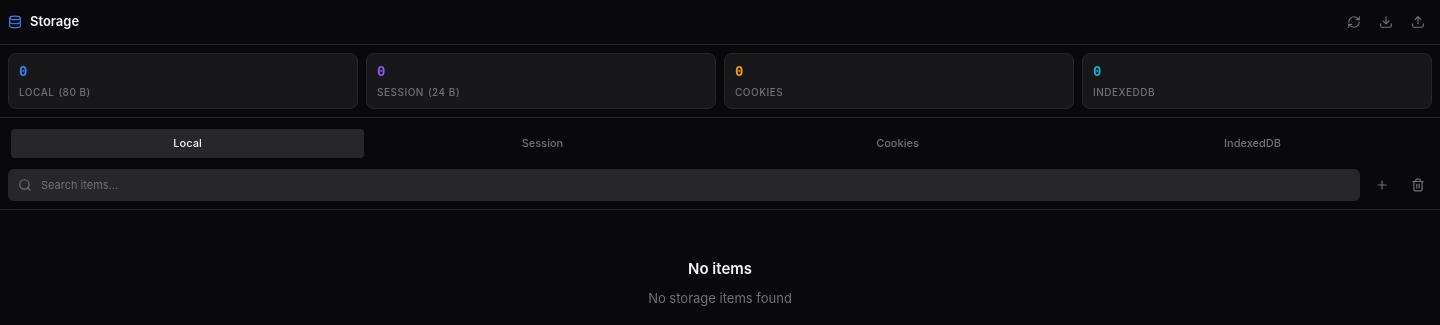
StorageTab › shows empty states when a storage area has nothing in it
Expected: the text "No storage items found" is shown, [648,288,792,309]
Click the button "IndexedDB" at (1252, 143), box [1076,129,1429,158]
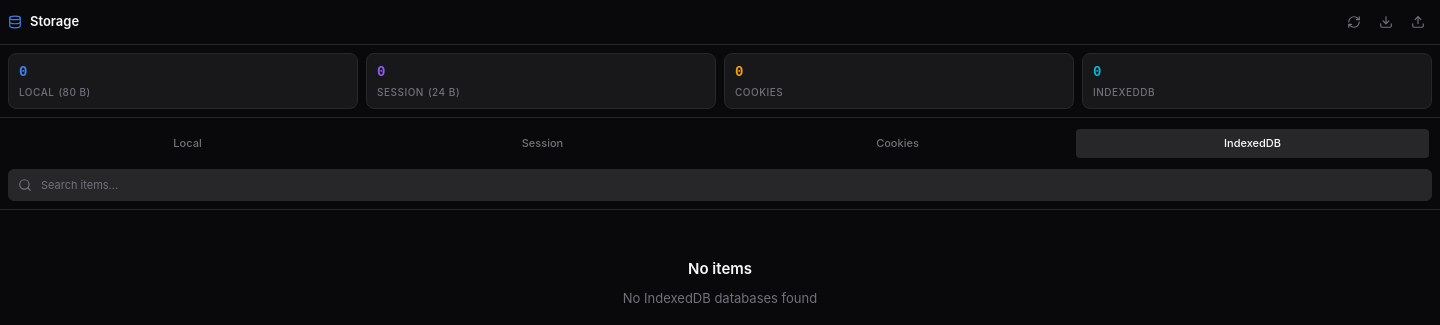
Expected: the text "No IndexedDB databases found" is shown, [623,288,817,309]
